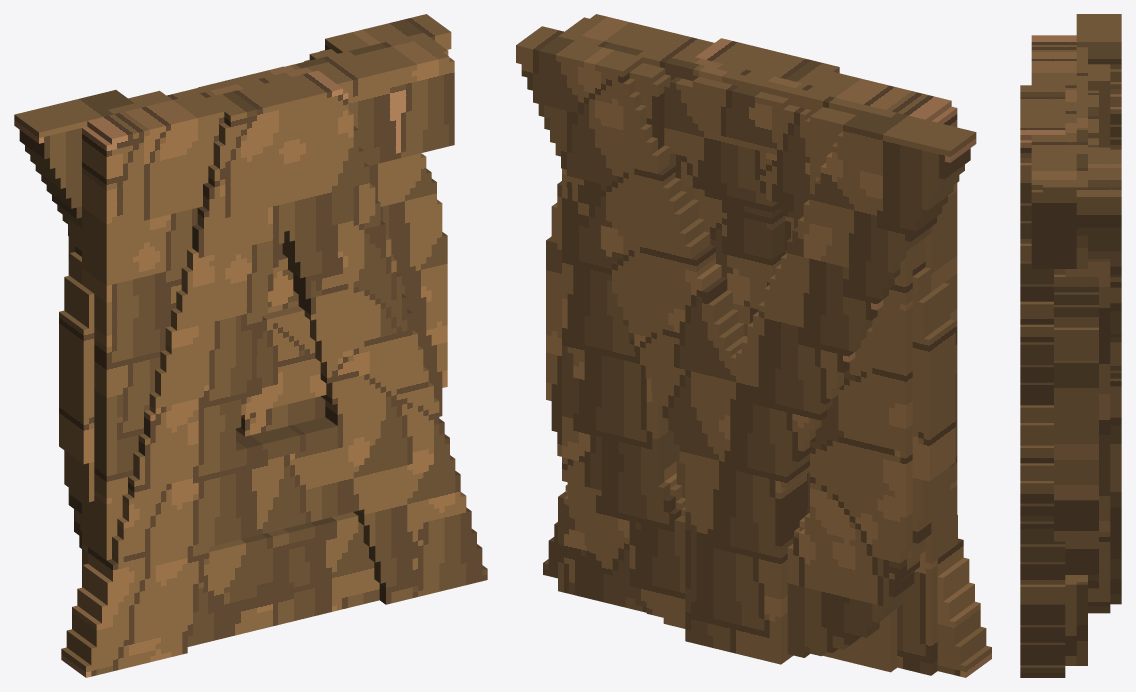
Rendered from letters.glb.
The picture shows the model from 3 angles, left to right: view 1: azimuth 30°, elevation 25°; view 2: azimuth 150°, elevation 25°; view 3: azimuth 270°, elevation 25°; orthographic projection. The views are drawn at different scales.
Parts seen in each view (by area): view 1: phoneme_a, phoneme_e, phoneme_o, phoneme_y, phoneme_i, phoneme_u; view 2: phoneme_y, phoneme_u, phoneme_o, phoneme_i, phoneme_e, phoneme_a; view 3: phoneme_a, phoneme_o, phoneme_y, phoneme_e, phoneme_u, phoneme_i.
Boxes of the visible parts, bbox=[...] form: phoneme_a: bbox=[61, 70, 487, 677]; phoneme_e: bbox=[82, 38, 454, 646]; phoneme_o: bbox=[59, 66, 447, 531]; phoneme_y: bbox=[14, 14, 451, 235]; phoneme_i: bbox=[108, 33, 448, 436]; phoneme_u: bbox=[68, 49, 337, 548]; phoneme_y: bbox=[516, 26, 976, 664]; phoneme_u: bbox=[562, 63, 925, 657]; phoneme_o: bbox=[546, 77, 955, 580]; phoneme_i: bbox=[558, 17, 897, 672]; phoneme_e: bbox=[565, 14, 957, 675]; phoneme_a: bbox=[543, 38, 991, 677]; phoneme_a: bbox=[1020, 85, 1065, 677]; phoneme_o: bbox=[1054, 90, 1098, 588]; phoneme_y: bbox=[1076, 14, 1121, 604]; phoneme_e: bbox=[1031, 35, 1076, 665]; phoneme_u: bbox=[1065, 64, 1110, 613]; phoneme_i: bbox=[1043, 47, 1087, 665].
Bounding box in the file's own units: 4.88 × 5.88 × 1.12.
Materials: 1 (1 with a texture image).
